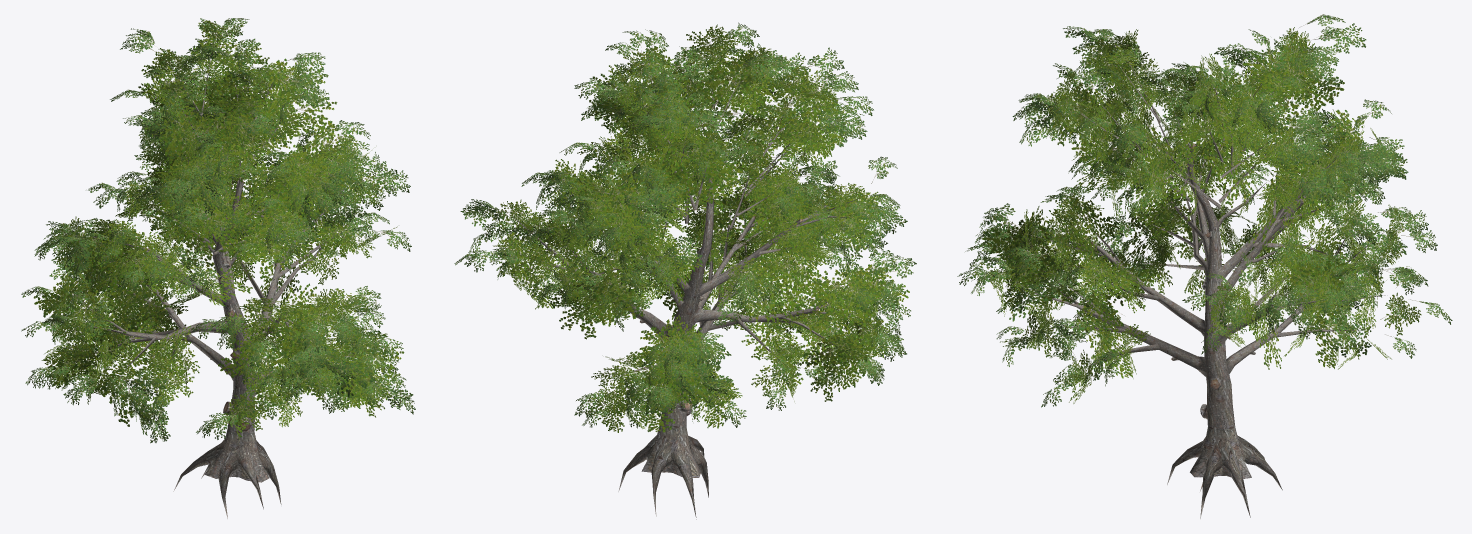
File: broadleaf.glb
3 renders of one model, left to right at view 1: azimuth 30°, elevation 25°; view 2: azimuth 150°, elevation 25°; view 3: azimuth 270°, elevation 25°, orthographic. The views are drawn at different scales.
Visible parts, largest first — view 1: broadleaf; view 2: broadleaf; view 3: broadleaf.
Boxes of the visible parts, x1=… form: broadleaf: x1=21, y1=18, x2=415, y2=518; broadleaf: x1=454, y1=22, x2=916, y2=519; broadleaf: x1=957, y1=14, x2=1452, y2=518.
Bounding box in the file's own units: 19.97 × 21.14 × 20.08.
Materials: 2 (2 with a texture image).
